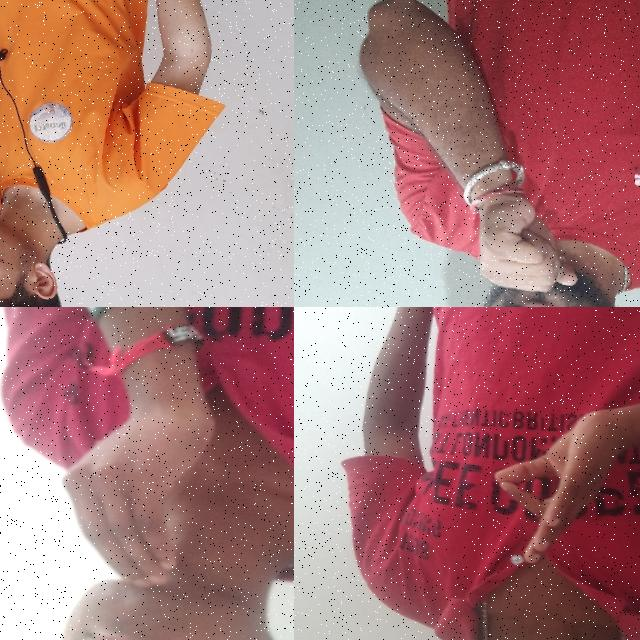Chin Flick: (0, 337, 294, 640)
Fist Mouth: (419, 160, 640, 307), (0, 161, 88, 307)
Okay: (483, 382, 636, 580)
